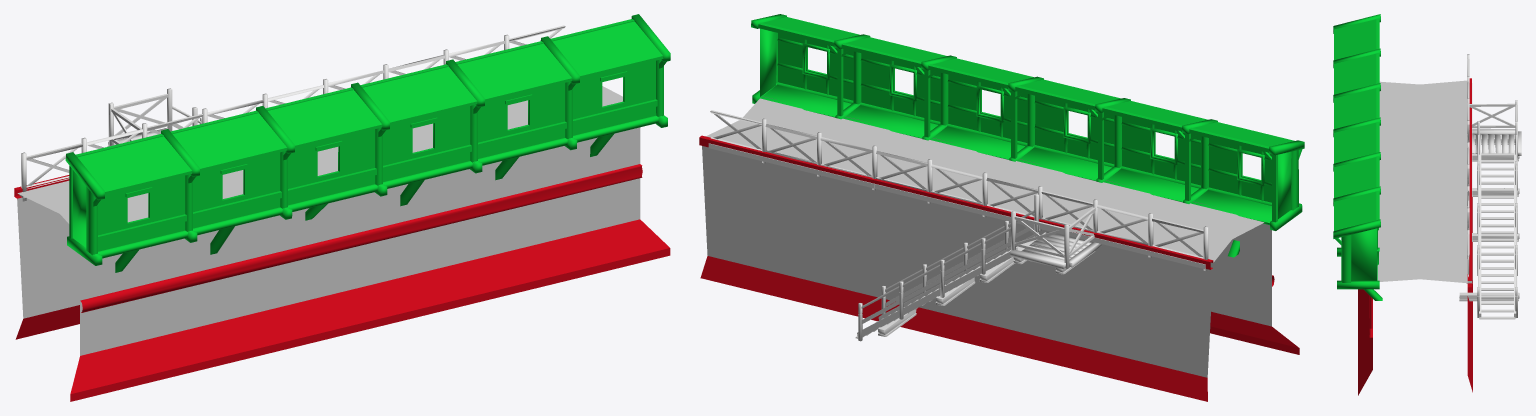
The model's file is Wall_1v2 (2).fbx.
The picture shows the model from 3 angles, left to right: view 1: azimuth 30°, elevation 25°; view 2: azimuth 150°, elevation 25°; view 3: azimuth 270°, elevation 25°; orthographic projection. The views are drawn at different scales.
Parts seen in each view (by area): view 1: Group_4.007, Group_3.012, Group_3.013; view 2: Group_4.007, Group_3.013, Group_3.012, Group_3.011; view 3: Group_4.007, Group_3.013, Group_3.012.
Part boxes in pixels (x1=…): Group_4.007: x1=14, y1=14, x2=670, y2=401; Group_3.012: x1=19, y1=25, x2=565, y2=201; Group_3.013: x1=107, y1=88, x2=202, y2=146; Group_4.007: x1=699, y1=14, x2=1304, y2=401; Group_3.013: x1=855, y1=194, x2=1101, y2=341; Group_3.012: x1=708, y1=110, x2=1208, y2=271; Group_3.011: x1=1040, y1=191, x2=1094, y2=242; Group_4.007: x1=1333, y1=14, x2=1472, y2=395; Group_3.013: x1=1459, y1=100, x2=1521, y2=319; Group_3.012: x1=1466, y1=54, x2=1472, y2=283.
Bounding box in the file's own units: 2058 × 769 × 753.
